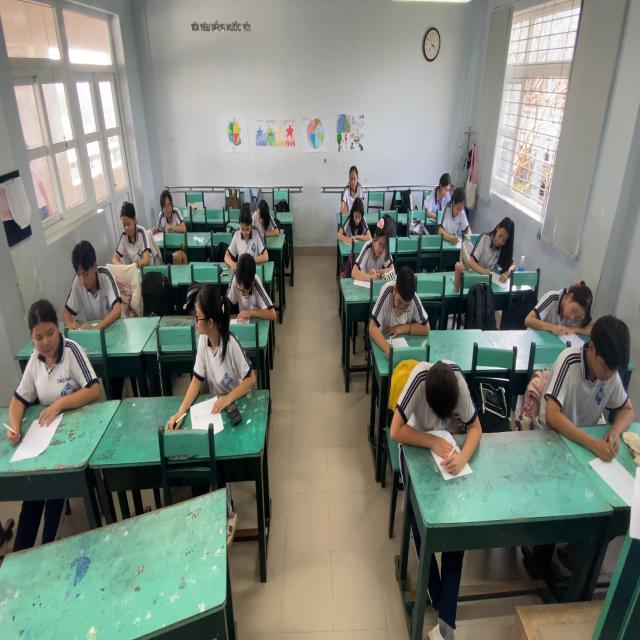cheating: (8, 298, 99, 405), (175, 282, 252, 388), (252, 192, 276, 239)
not_cheating: (550, 316, 640, 443), (387, 346, 477, 444), (62, 236, 116, 329), (374, 270, 430, 336), (520, 275, 591, 322), (352, 218, 393, 284), (434, 178, 477, 239), (234, 257, 272, 326), (477, 225, 525, 278), (116, 202, 148, 270), (335, 197, 373, 253), (228, 197, 263, 257), (152, 188, 189, 243), (335, 153, 368, 205), (422, 171, 459, 201)
